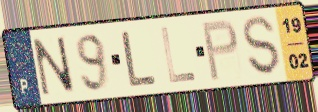9: (75, 32, 112, 93)
L: (158, 25, 198, 85), (120, 29, 159, 89)
N: (30, 35, 78, 98)
P: (200, 18, 241, 84)
S: (241, 15, 283, 78)
